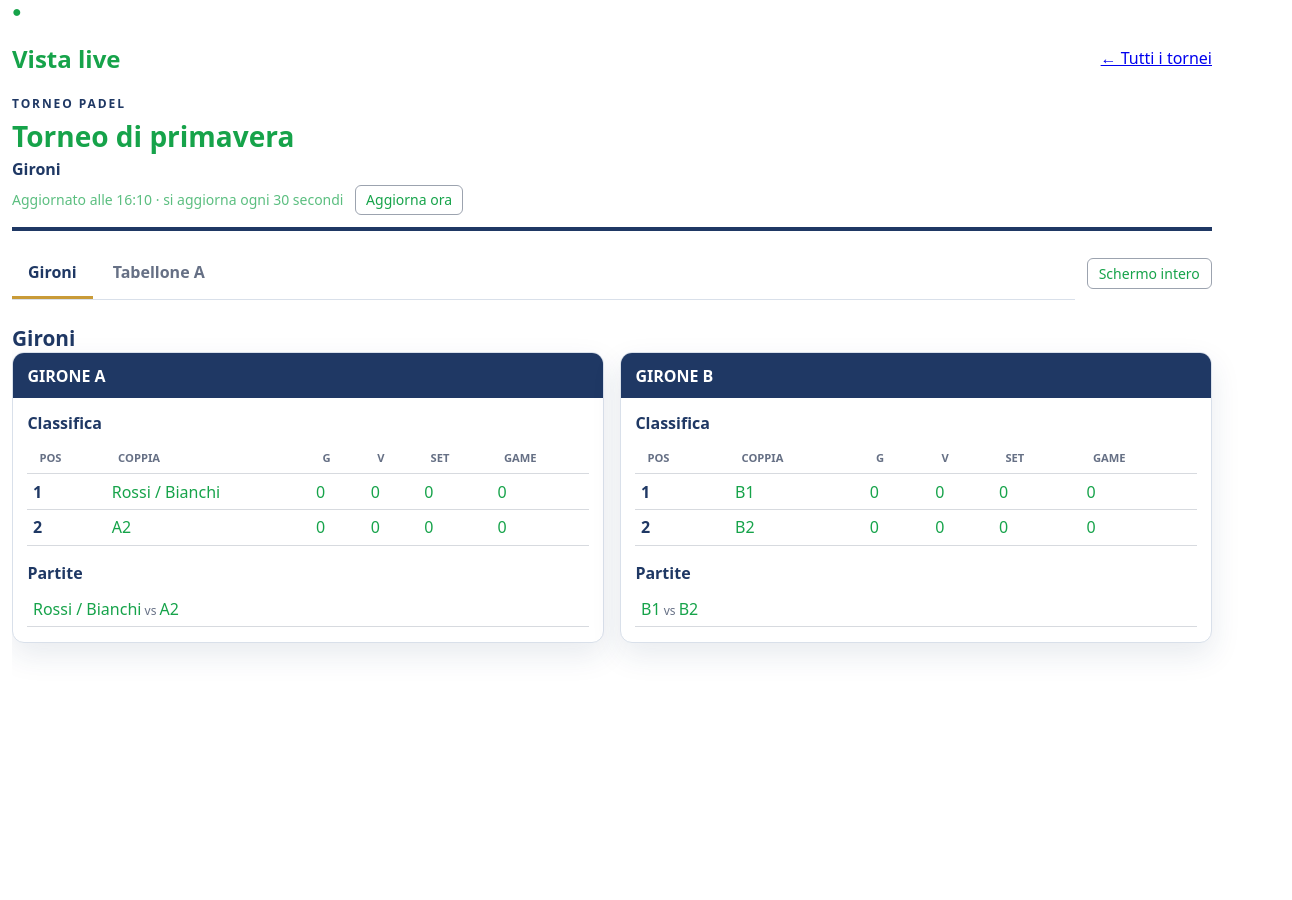
Test: LivePage › switches between the groups and the bracket
Expected: the element labelled "GIRONE A" is shown, x1=12 y1=352 x2=604 y2=643
Expected: the text "1° Girone A" is not shown
Click the button "Tabellone A" at (159, 273), box x1=97 y1=247 x2=221 y2=299
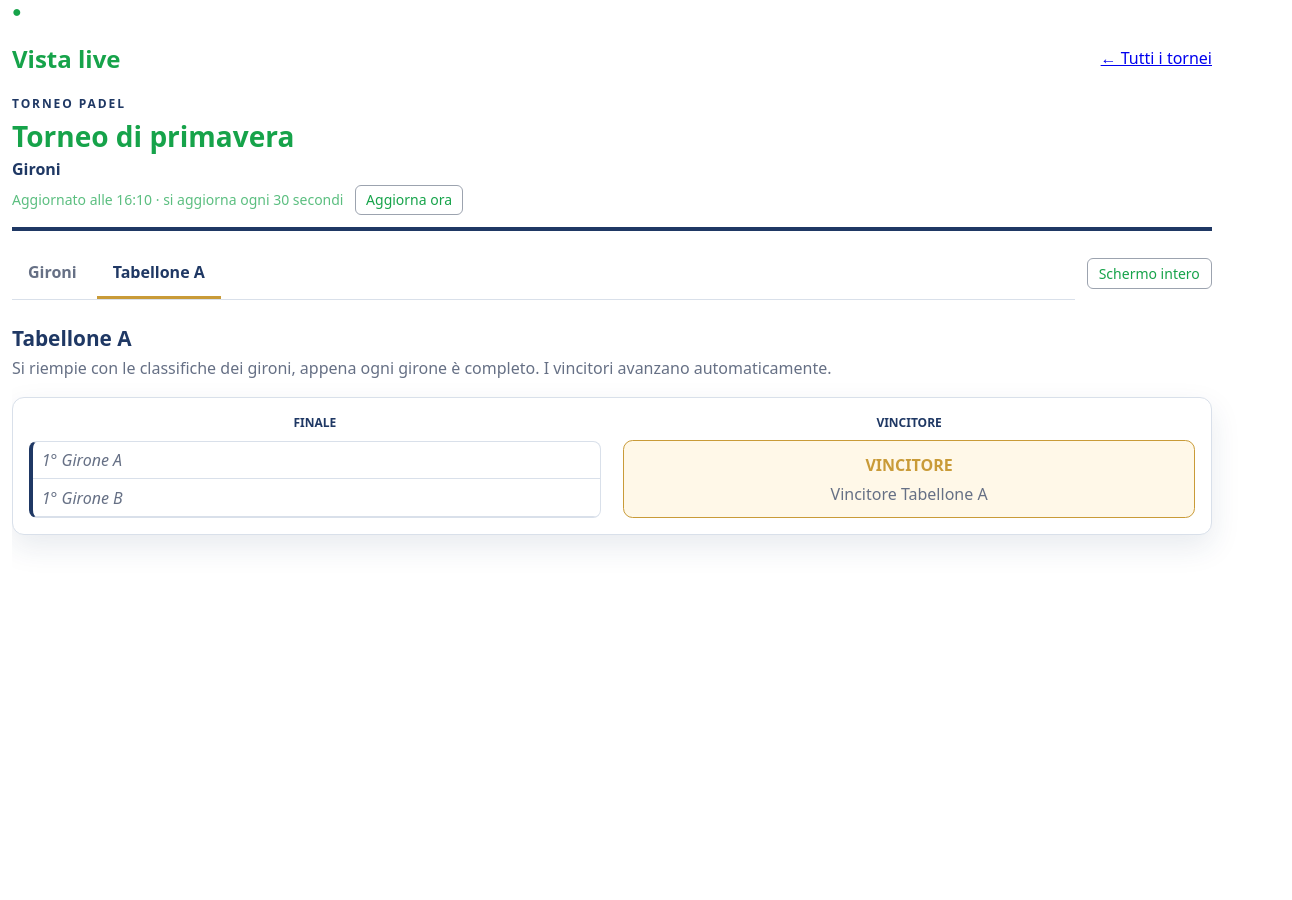
Expected: the text "1° Girone A" is shown, x1=42 y1=449 x2=122 y2=471
Click the button "Gironi" at (52, 273), box x1=12 y1=247 x2=93 y2=299
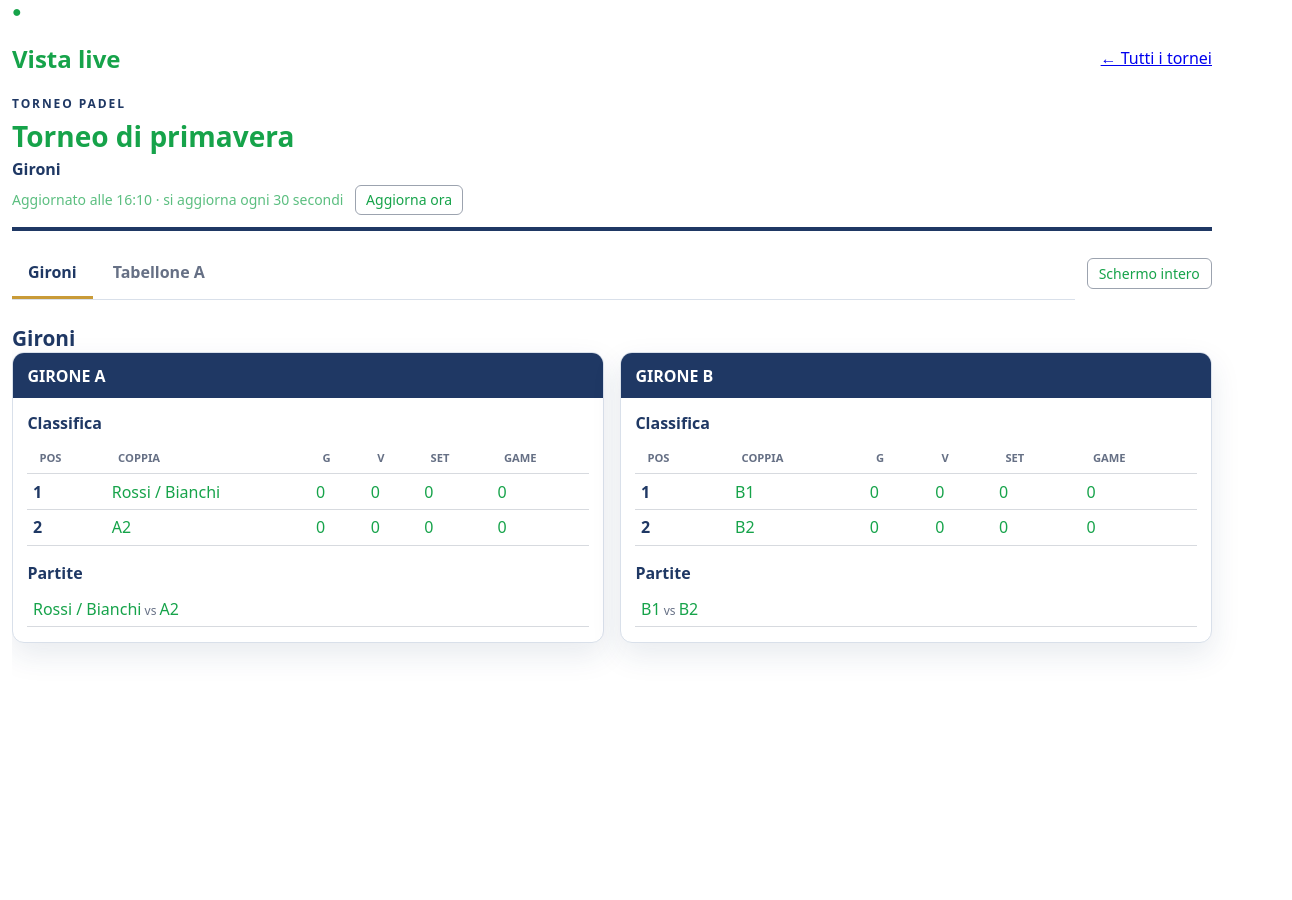
Expected: the element labelled "GIRONE A" is shown, x1=12 y1=352 x2=604 y2=643
